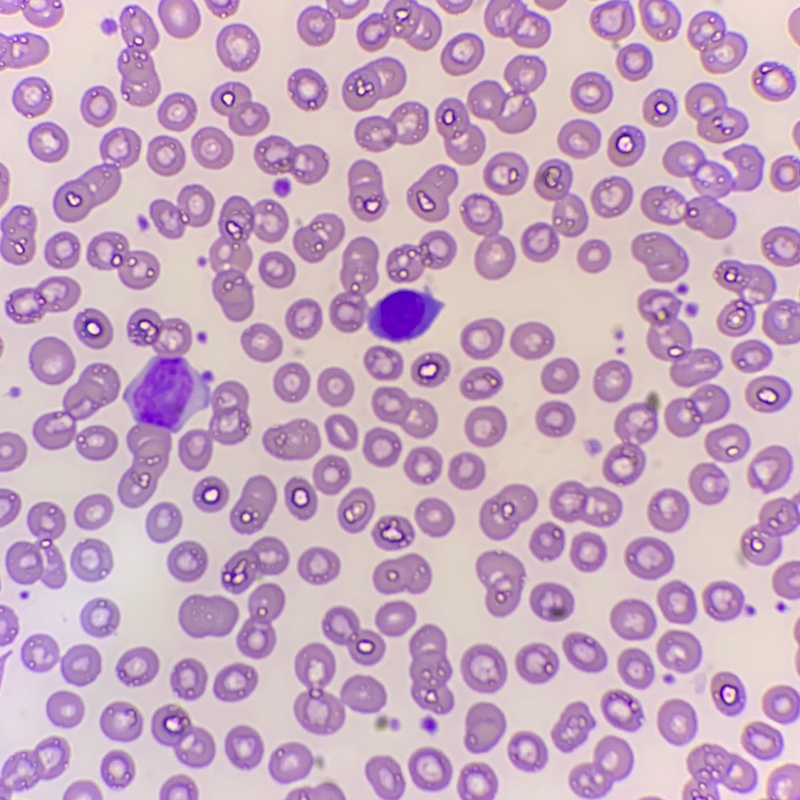RBC: (118, 309, 212, 506), (435, 56, 545, 164), (329, 237, 439, 342), (209, 197, 288, 321), (641, 141, 734, 238), (33, 363, 120, 460), (294, 643, 386, 734), (54, 128, 140, 222), (638, 289, 720, 386), (714, 260, 799, 344), (521, 159, 587, 261), (178, 381, 250, 470), (603, 393, 659, 484), (6, 502, 65, 587), (462, 193, 515, 279), (0, 736, 70, 799), (737, 494, 799, 564), (284, 455, 350, 519), (357, 0, 441, 50), (118, 7, 160, 105), (87, 232, 159, 289), (151, 704, 215, 766), (683, 744, 755, 799), (409, 624, 453, 713), (569, 735, 632, 797), (221, 536, 289, 592), (236, 583, 285, 658), (355, 101, 428, 151), (386, 230, 456, 282), (685, 83, 746, 142), (322, 606, 384, 664), (254, 136, 328, 183), (6, 276, 80, 323), (150, 184, 214, 238), (688, 12, 745, 72), (342, 57, 405, 110), (665, 384, 729, 436), (372, 386, 437, 437), (297, 0, 368, 45), (550, 481, 621, 526), (479, 484, 537, 539), (211, 81, 269, 135), (476, 551, 524, 616), (485, 0, 549, 47), (407, 165, 458, 221), (632, 232, 688, 282), (230, 475, 276, 533), (178, 594, 238, 638), (293, 214, 344, 262), (263, 419, 320, 460), (460, 644, 507, 693), (348, 160, 386, 220), (373, 554, 431, 593), (29, 337, 75, 384), (269, 742, 323, 781), (1, 205, 36, 264), (464, 702, 505, 752), (216, 24, 259, 71), (625, 537, 673, 579), (552, 702, 593, 751), (748, 446, 791, 492), (483, 152, 528, 194), (610, 598, 655, 639), (657, 630, 700, 672), (408, 747, 451, 789), (461, 318, 504, 359), (441, 33, 483, 74), (191, 127, 233, 168), (515, 642, 557, 683), (530, 582, 574, 621), (115, 647, 159, 686), (657, 699, 695, 744), (591, 176, 632, 217), (601, 689, 642, 730), (648, 489, 688, 531), (563, 632, 606, 671), (365, 756, 404, 799), (213, 663, 257, 701), (639, 0, 680, 40), (465, 406, 506, 446), (72, 538, 112, 579), (558, 119, 600, 158), (100, 701, 142, 740), (591, 1, 634, 39), (657, 580, 695, 623), (510, 322, 554, 359), (745, 375, 789, 412), (705, 424, 749, 461), (726, 145, 762, 190), (62, 644, 101, 685), (752, 62, 794, 100), (338, 488, 374, 532), (287, 69, 327, 108), (571, 73, 611, 112), (29, 122, 68, 162), (168, 541, 207, 581), (703, 581, 743, 620), (241, 323, 282, 361), (593, 360, 631, 401), (225, 725, 263, 766), (158, 0, 200, 37), (0, 35, 48, 67), (507, 731, 546, 770), (74, 308, 112, 348), (689, 463, 726, 504), (170, 658, 207, 699), (147, 136, 185, 175), (415, 498, 454, 536), (457, 762, 497, 799), (298, 547, 339, 583), (158, 92, 196, 130), (363, 428, 401, 466), (285, 299, 322, 338), (608, 126, 644, 166), (617, 648, 653, 688), (14, 78, 52, 115), (762, 227, 799, 265), (536, 400, 574, 437), (404, 446, 441, 484), (742, 721, 780, 758), (570, 532, 606, 571), (274, 362, 309, 402), (373, 515, 414, 549), (460, 366, 502, 399), (81, 87, 116, 126), (318, 367, 353, 406), (74, 494, 113, 529), (146, 502, 181, 541), (375, 601, 415, 635), (449, 452, 485, 489), (22, 634, 59, 670), (47, 690, 84, 726), (411, 352, 449, 387), (541, 358, 579, 393), (84, 598, 119, 636), (364, 346, 403, 380), (711, 672, 742, 714), (44, 232, 80, 268), (259, 251, 295, 287), (193, 476, 229, 512), (530, 522, 565, 558), (763, 686, 798, 722), (732, 339, 770, 372), (617, 44, 651, 80), (643, 89, 676, 126), (102, 749, 135, 786), (325, 414, 357, 449), (287, 780, 344, 799), (578, 239, 610, 272), (0, 432, 26, 471), (773, 561, 799, 598), (771, 156, 799, 190), (160, 774, 198, 799), (0, 488, 20, 526), (64, 780, 102, 799), (778, 764, 799, 797), (18, 1, 44, 25), (2, 607, 18, 641), (209, 0, 238, 16), (440, 0, 471, 13), (0, 165, 9, 203), (375, 715, 399, 729), (47, 0, 62, 22), (789, 9, 799, 41), (273, 179, 290, 194), (537, 0, 563, 9), (586, 439, 600, 453), (686, 303, 696, 315), (420, 717, 432, 727), (793, 125, 799, 141), (677, 285, 686, 294), (794, 625, 799, 638), (11, 387, 19, 395), (768, 794, 777, 799)
